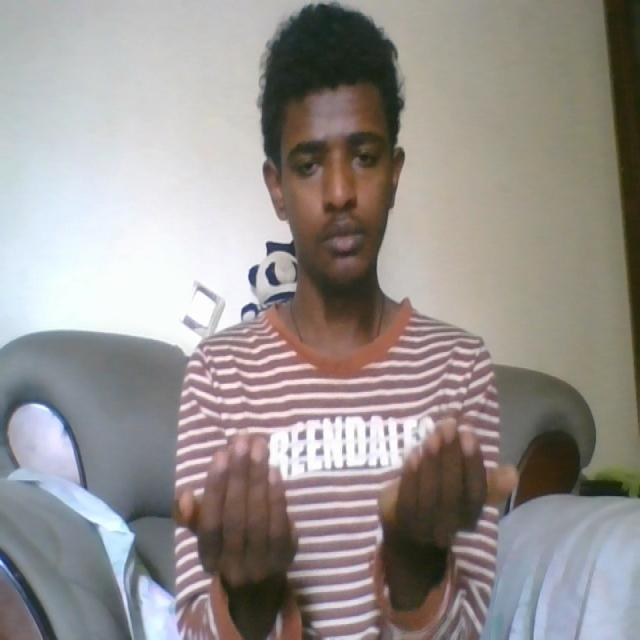mestet: (182, 414, 517, 534)
